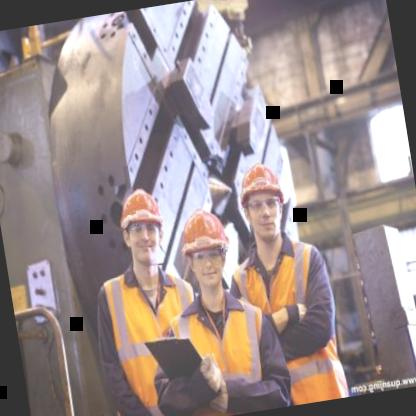helmet: (229, 150, 292, 248), (174, 202, 238, 297), (110, 180, 171, 272)
